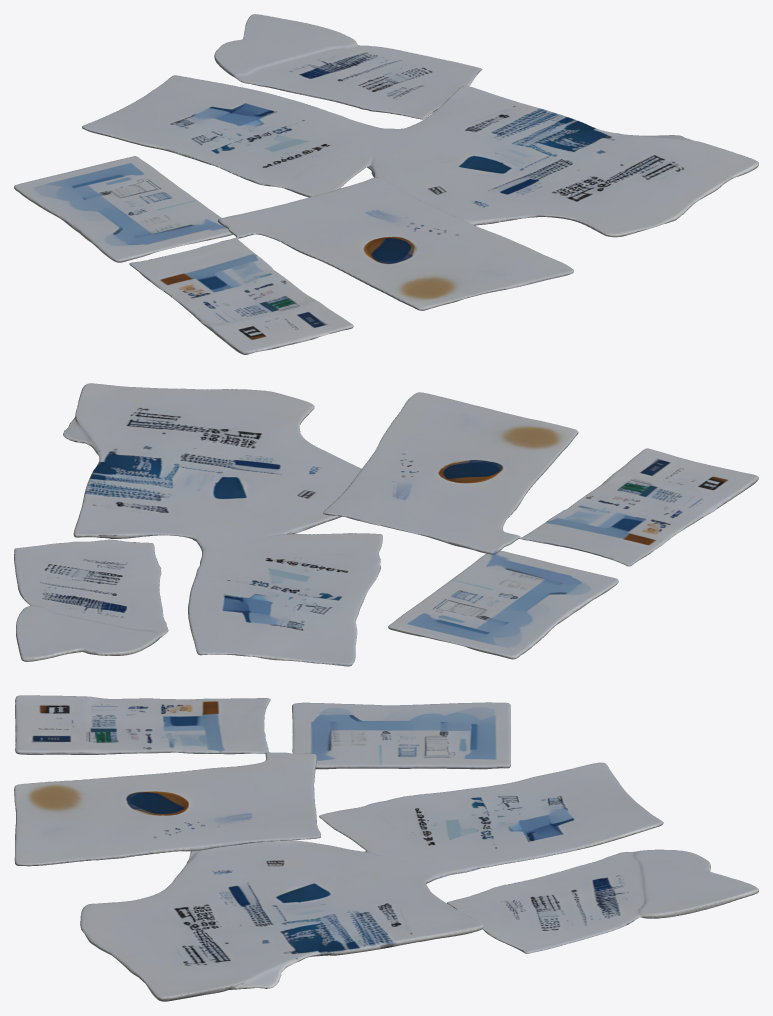
File: documents.glb
The picture shows the model from 3 angles, top to bottom: view 1: azimuth 30°, elevation 25°; view 2: azimuth 150°, elevation 25°; view 3: azimuth 270°, elevation 25°; orthographic projection. The views are drawn at different scales.
Visible parts, largest first — view 1: tripo_node_8d82a129-3be9-4bff-9a62-f7d11cd834ce; view 2: tripo_node_8d82a129-3be9-4bff-9a62-f7d11cd834ce; view 3: tripo_node_8d82a129-3be9-4bff-9a62-f7d11cd834ce.
Boxes of the visible parts, x1=… form: tripo_node_8d82a129-3be9-4bff-9a62-f7d11cd834ce: x1=14, y1=14, x2=758, y2=354; tripo_node_8d82a129-3be9-4bff-9a62-f7d11cd834ce: x1=14, y1=383, x2=758, y2=666; tripo_node_8d82a129-3be9-4bff-9a62-f7d11cd834ce: x1=14, y1=695, x2=758, y2=1001.
Size of the model in its own units: 0.9562 by 0.0224 by 1.
Materials: 1 (1 with a texture image).
